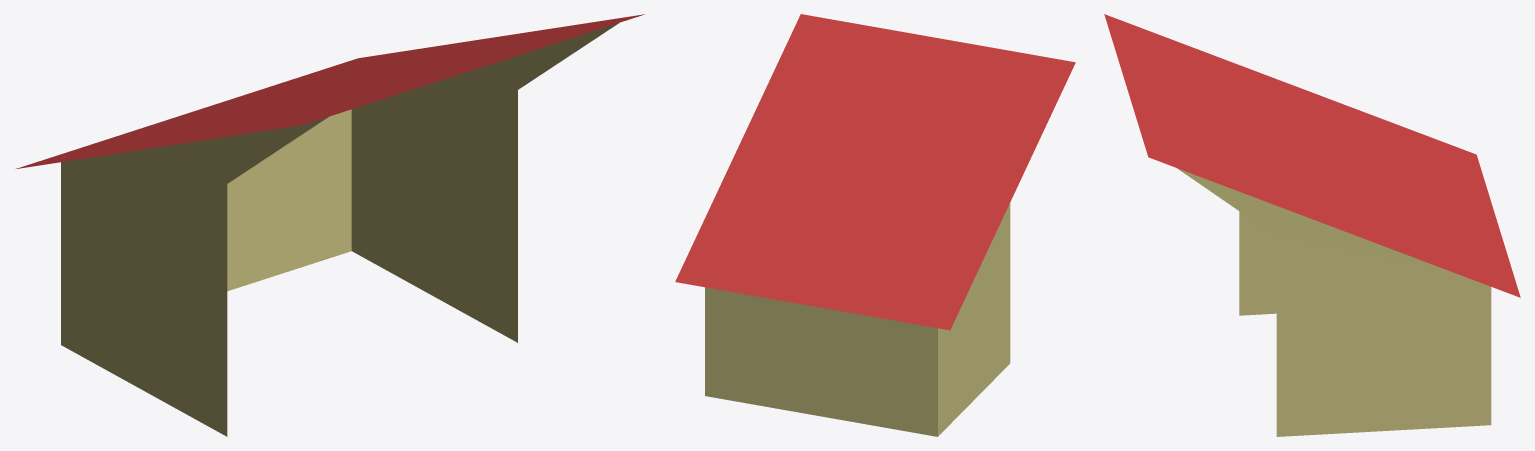
3 renders of one model, left to right at view 1: azimuth 30°, elevation 25°; view 2: azimuth 150°, elevation 25°; view 3: azimuth 270°, elevation 25°, orthographic. The views are drawn at different scales.
Size of the model in its own units: 7.36 by 7.91 by 6.24.
